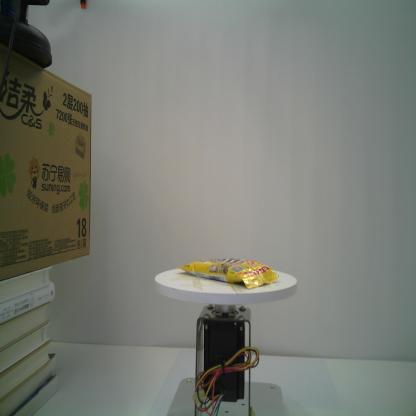Chocolate: (178, 256, 280, 289)
